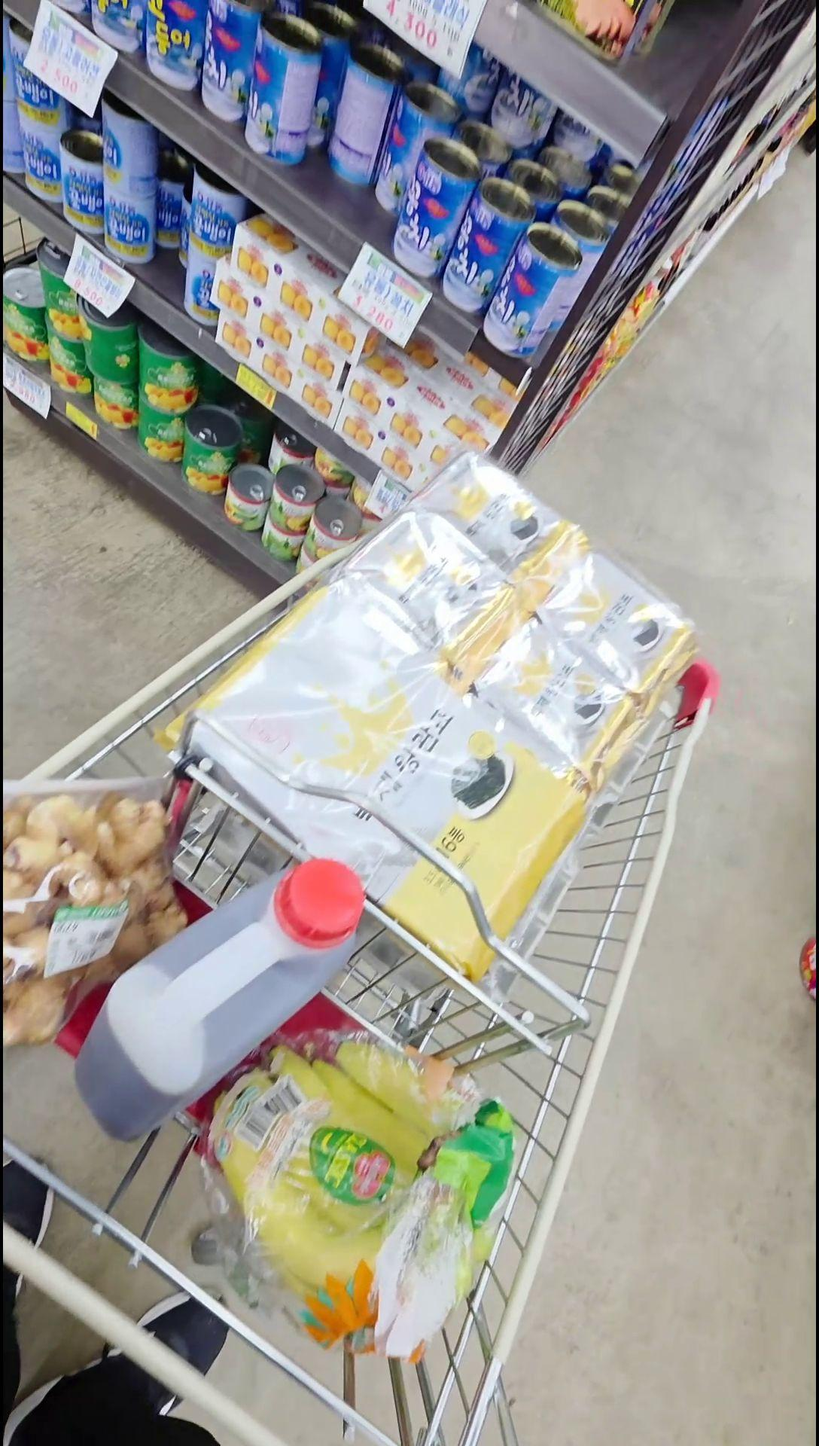fully_cart: (0, 457, 718, 1445)
